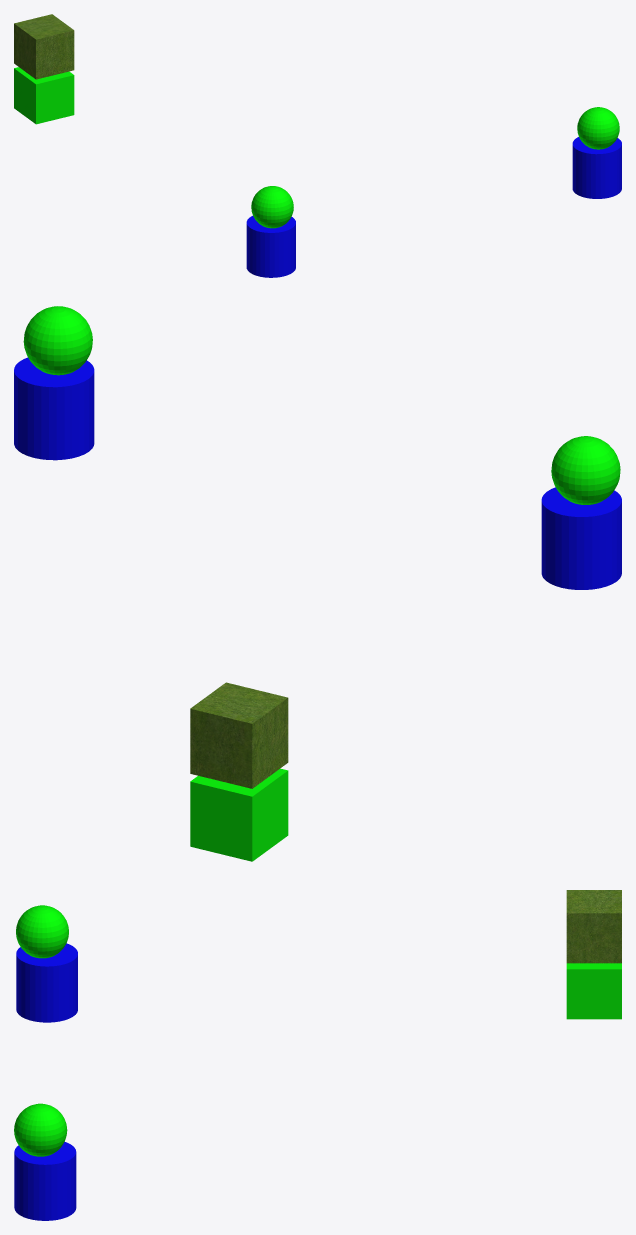
The model's file is blend-test.glb.
3 views of the same model, one above another, from view 1: azimuth 30°, elevation 25°; view 2: azimuth 150°, elevation 25°; view 3: azimuth 270°, elevation 25° (orthographic). The views are drawn at different scales.
Parts seen in each view (by area): view 1: obj-1~mcv, obj-2~mvx, obj3-mxx; view 2: obj-1~mcv, obj3-mxx, obj-2~mvx; view 3: obj-1~mcv, obj-2~mvx, obj3-mxx.
Part boxes in pixels (x1,y1,x2,y2): obj-1~mcv: [14, 14, 74, 124]; obj-2~mvx: [572, 107, 621, 198]; obj3-mxx: [246, 186, 295, 277]; obj-1~mcv: [190, 682, 288, 861]; obj3-mxx: [541, 436, 621, 589]; obj-2~mvx: [14, 306, 94, 460]; obj-1~mcv: [566, 890, 621, 1019]; obj-2~mvx: [14, 1103, 76, 1220]; obj3-mxx: [16, 905, 77, 1022].
Size of the model in its own units: 8.25 by 1.79 by 9.29.
Materials: 3 (1 with a texture image).
